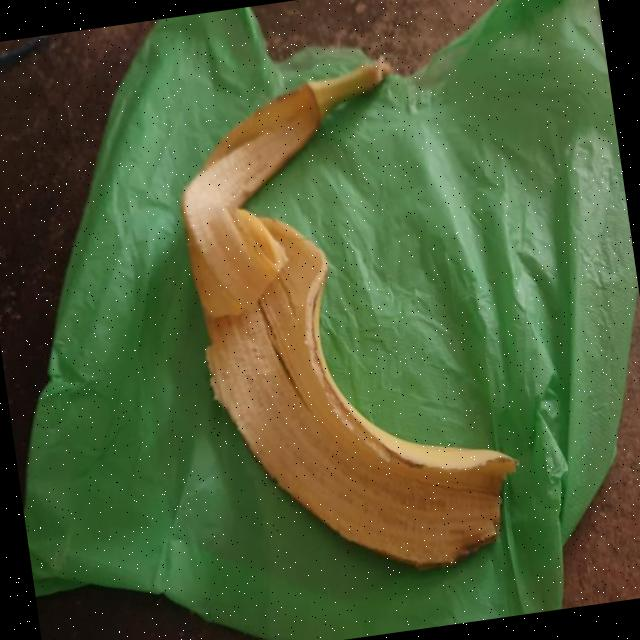banana-peel: (162, 45, 533, 598)
